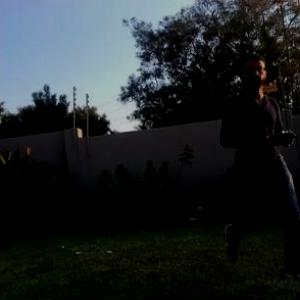follow: (217, 43, 300, 290)
